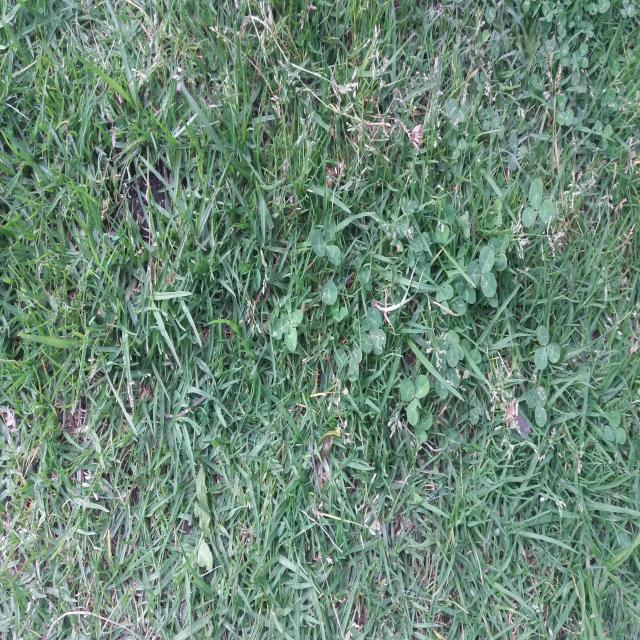Four Leaf Clover: (271, 298, 303, 352)
